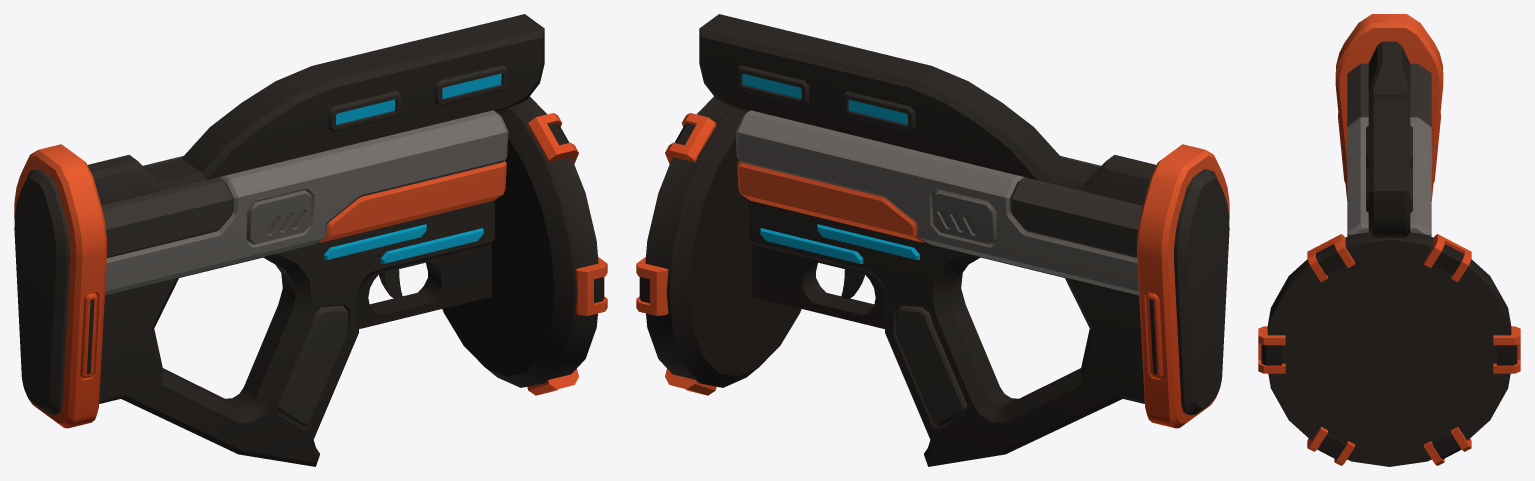
The picture shows the model from 3 angles, left to right: view 1: azimuth 30°, elevation 25°; view 2: azimuth 150°, elevation 25°; view 3: azimuth 270°, elevation 25°; orthographic projection. The views are drawn at different scales.
Parts seen in each view (by area): view 1: GL2_Base; view 2: GL2_Base; view 3: GL2_Base.
Part boxes in pixels (box(x1,y1,x2,y2)): GL2_Base: box(14, 14, 607, 466); GL2_Base: box(636, 14, 1229, 466); GL2_Base: box(1258, 14, 1520, 466).
Size of the model in its own units: 39.78 by 29.17 by 22.4.
